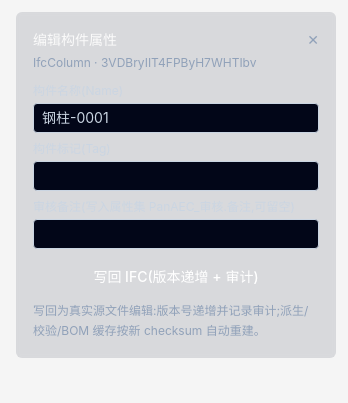
Test: IfcElementEditOverlay › refuses to submit when nothing changed
The image size is (348, 403).
Click the button "写回 IFC(版本递增 + 审计)" at (176, 277), box x1=33 y1=261 x2=319 y2=293
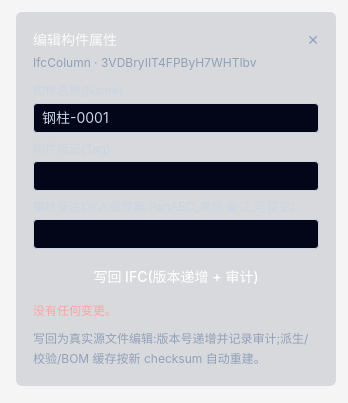
Check: the text "没有任何变更。" is shown, box x1=33 y1=303 x2=117 y2=318
